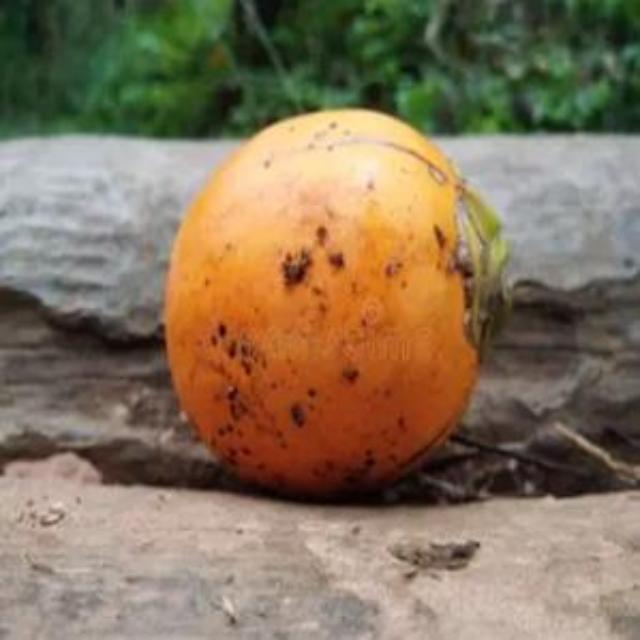good: (163, 109, 509, 501)
